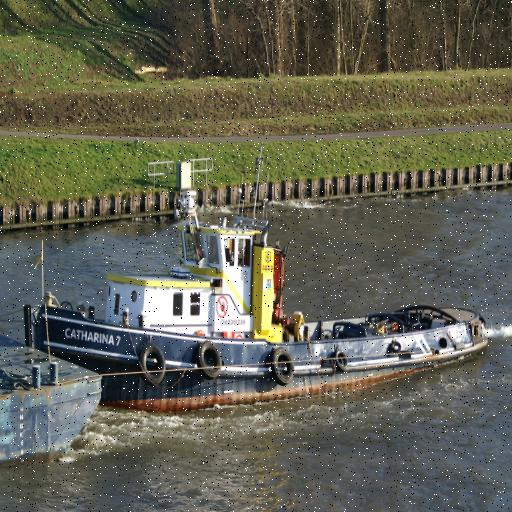tugboat: (22, 187, 493, 439)
